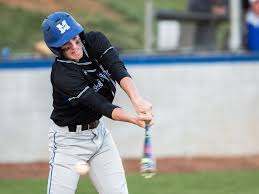baseball: (73, 158, 91, 176)
baseball bat: (138, 113, 156, 180)
baseball player: (40, 11, 156, 194)
